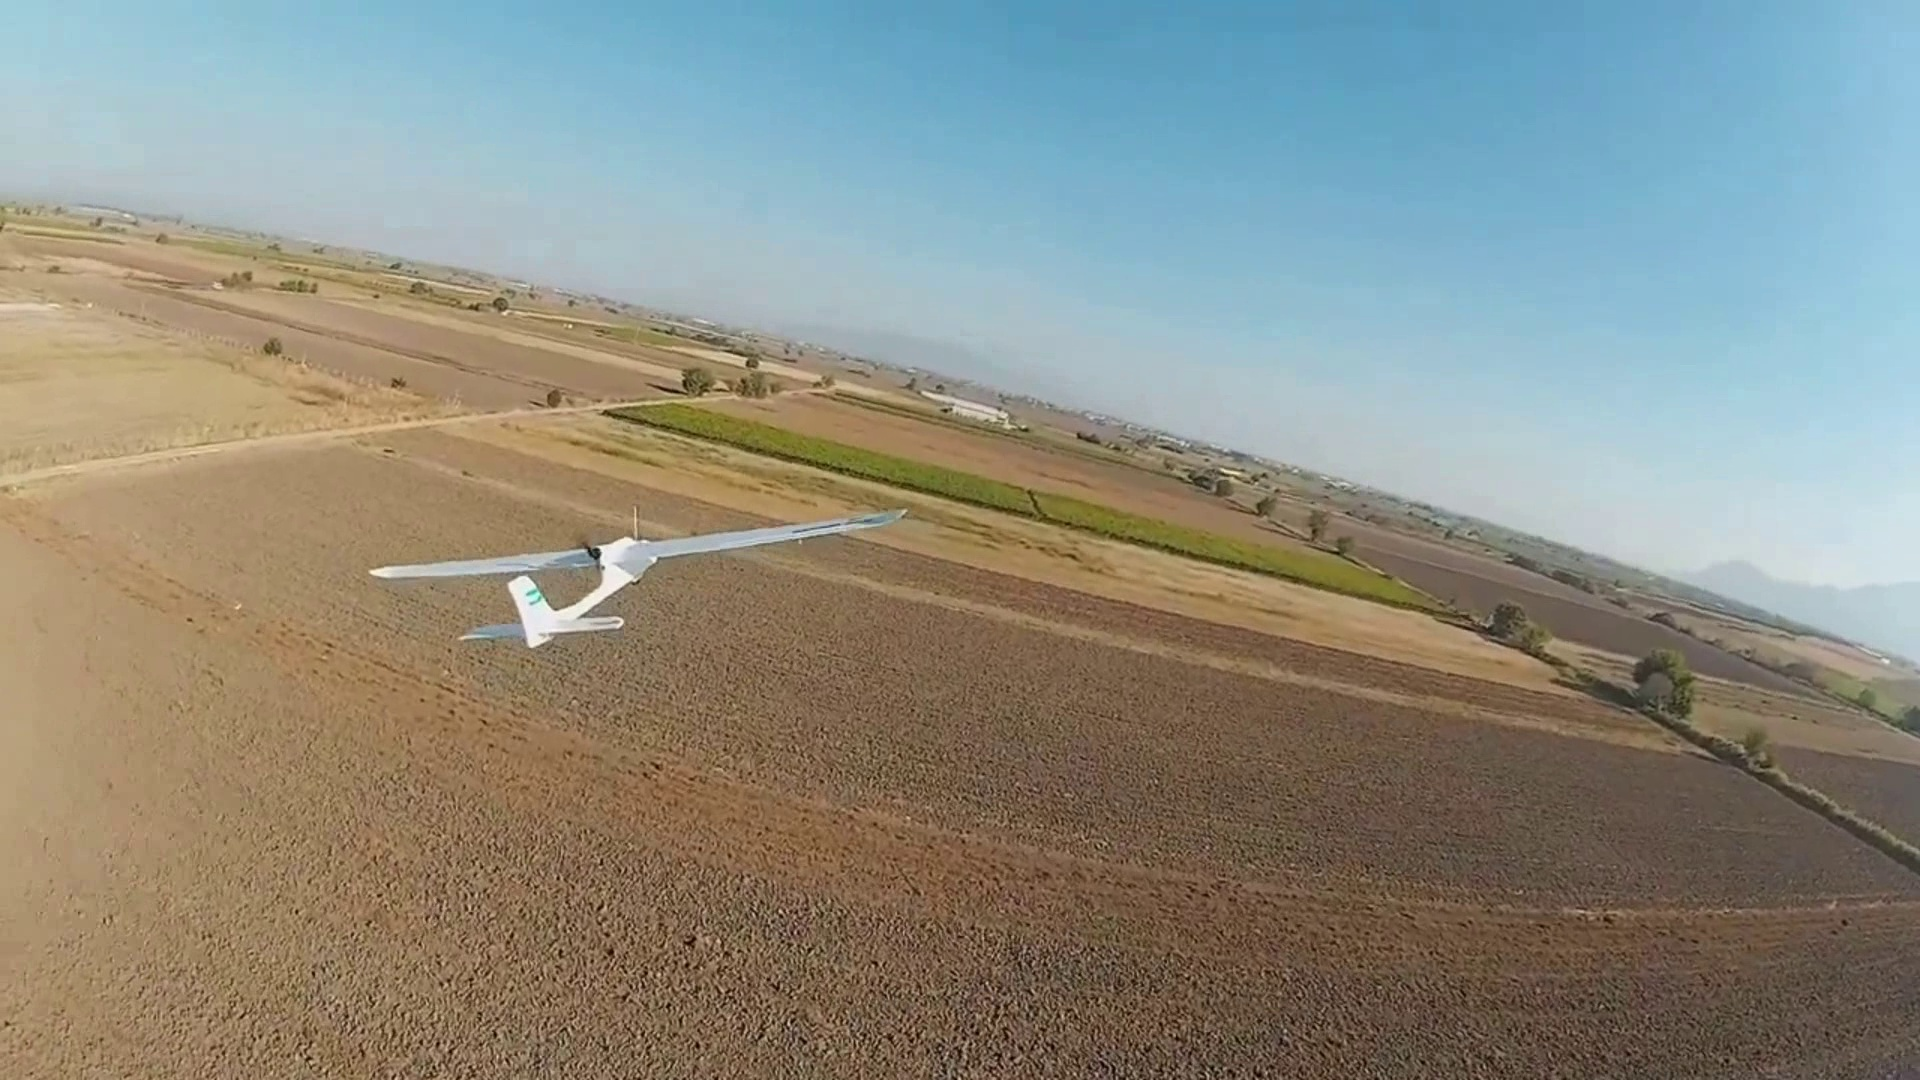airplane: (369, 509, 910, 651)
